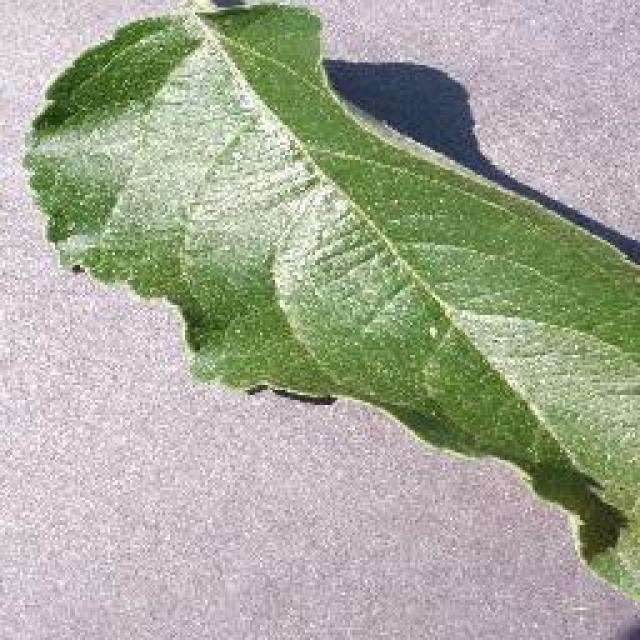apple healthy: (20, 0, 638, 638)
